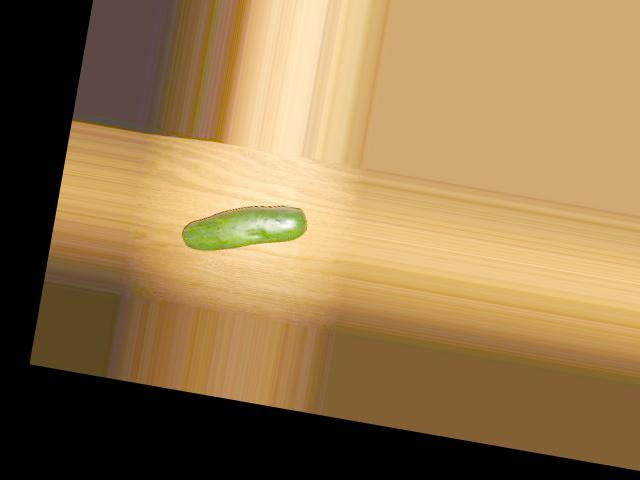cucumber: (179, 188, 307, 266)
